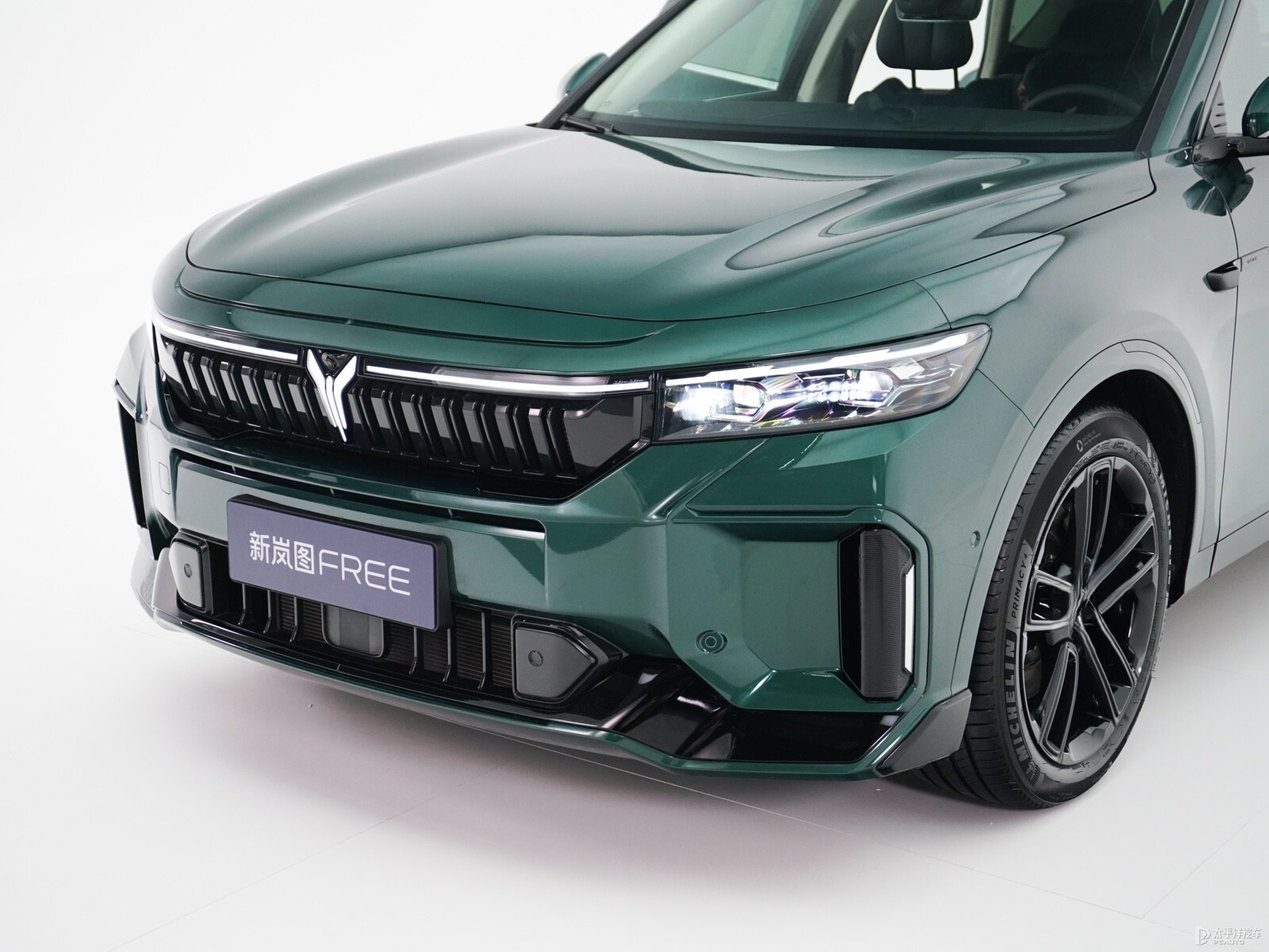VOYAH: (306, 350, 356, 441)
